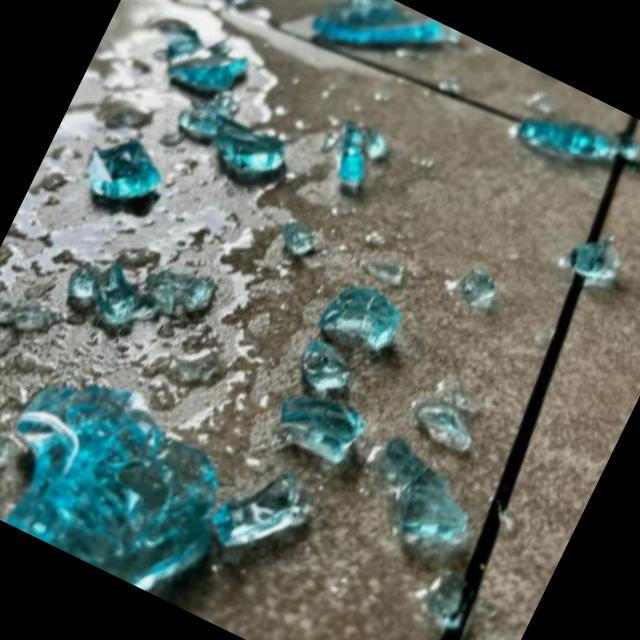PecahanKaca: (0, 344, 327, 639)
